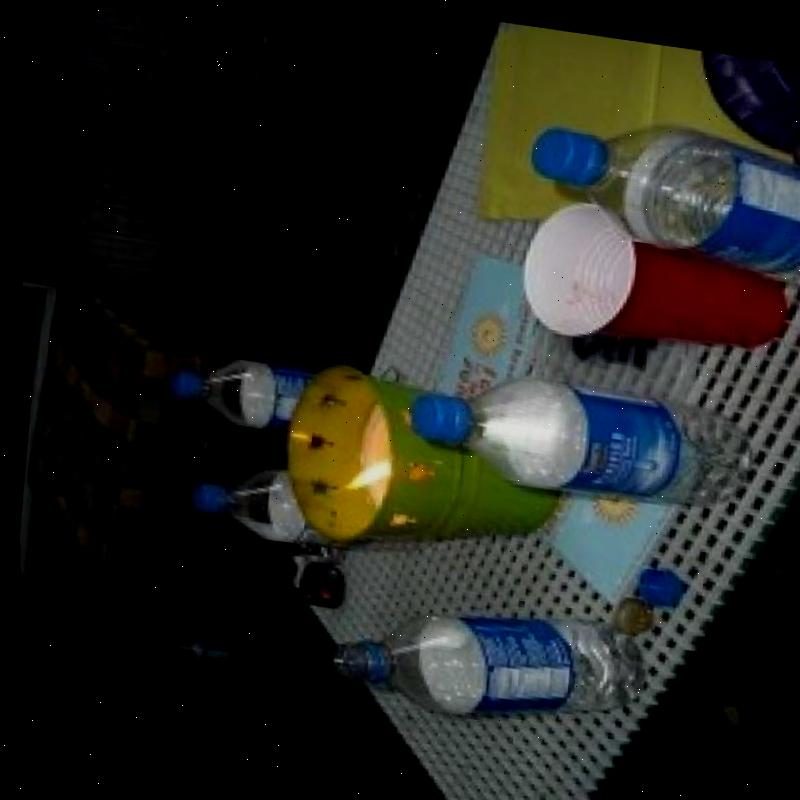botella: (402, 354, 750, 515), (319, 575, 649, 742), (513, 99, 800, 289), (186, 453, 417, 556), (163, 341, 312, 435)
